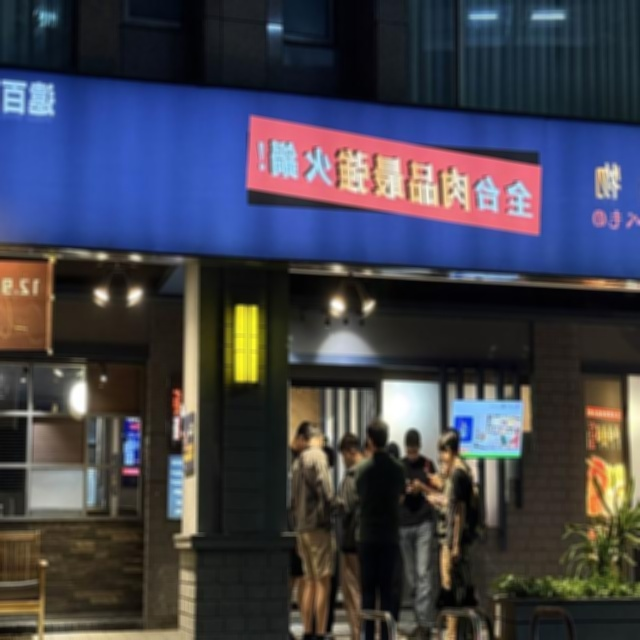Sin_Casco_Mascarrilla: (367, 419, 389, 453), (438, 431, 460, 464), (339, 432, 358, 468), (404, 428, 421, 460), (305, 423, 325, 449)
Sin_Chaleco: (357, 458, 401, 538), (292, 451, 326, 532), (447, 466, 477, 546)
